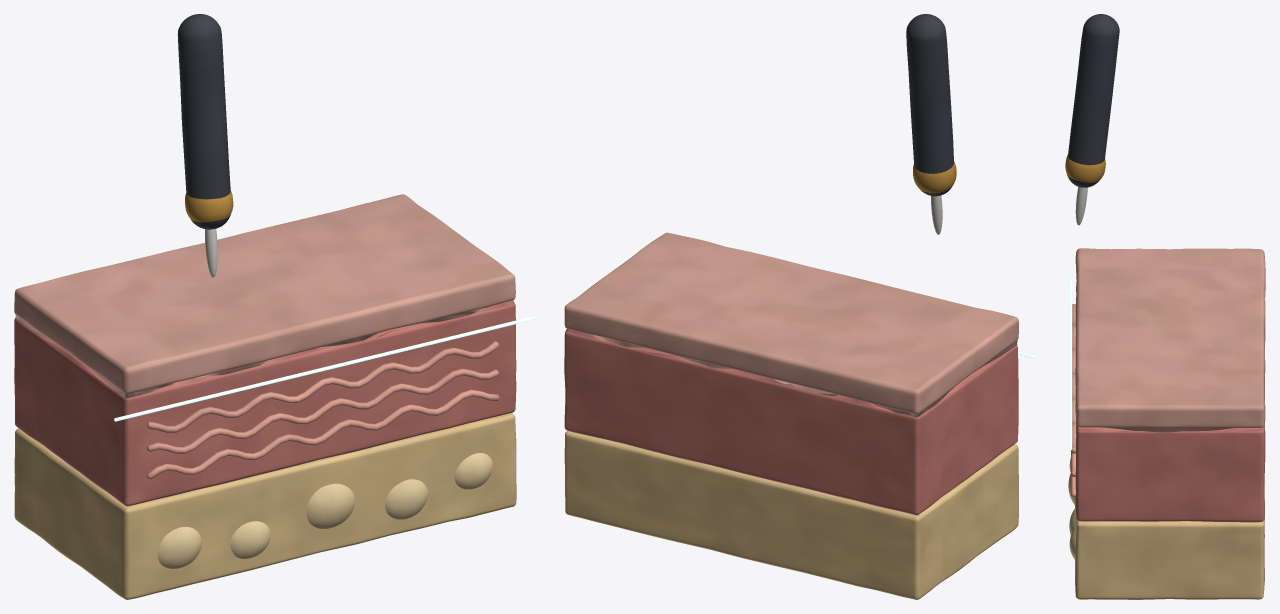
File: capas-de-la-piel.glb
3 renders of one model, left to right at view 1: azimuth 30°, elevation 25°; view 2: azimuth 150°, elevation 25°; view 3: azimuth 270°, elevation 25°, orthographic. The views are drawn at different scales.
Visible parts, largest first — view 1: Epidermis, Dermis, Hipodermis, Dermografo_cuerpo, Colageno_2, Colageno_0, Colageno_1, Franja_objetivo, Lobulo_2, Lobulo_0, Lobulo_3, Lobulo_1 (+2 smaller); view 2: Epidermis, Dermis, Hipodermis, Dermografo_cuerpo, Dermografo_anillo; view 3: Epidermis, Dermis, Hipodermis, Dermografo_cuerpo, Dermografo_anillo, Franja_objetivo, Colageno_2, Dermografo_aguja.
Part boxes in pixels (x1,y1,x2,y2): Epidermis: (14, 194, 515, 398); Dermis: (14, 300, 516, 506); Hipodermis: (14, 413, 516, 599); Dermografo_cuerpo: (177, 14, 230, 229); Colageno_2: (146, 341, 499, 432); Colageno_0: (146, 389, 498, 479); Colageno_1: (147, 368, 498, 454); Franja_objetivo: (114, 316, 535, 421); Lobulo_2: (306, 483, 354, 528); Lobulo_0: (157, 527, 201, 568); Lobulo_3: (385, 479, 428, 519); Lobulo_1: (230, 521, 270, 558); Epidermis: (564, 232, 1018, 417); Dermis: (564, 328, 1018, 515); Hipodermis: (564, 431, 1018, 599); Dermografo_cuerpo: (906, 14, 953, 196); Dermografo_anillo: (913, 161, 956, 193); Epidermis: (1075, 248, 1265, 432); Dermis: (1075, 286, 1265, 522); Hipodermis: (1075, 415, 1265, 599); Dermografo_cuerpo: (1067, 14, 1119, 187); Dermografo_anillo: (1065, 155, 1105, 182); Franja_objetivo: (1069, 277, 1072, 450); Colageno_2: (1071, 304, 1076, 453); Dermografo_aguja: (1075, 187, 1087, 225).
Bounding box in the file's own units: 4.72 × 5.94 × 2.33.
Materials: 19 (18 with a texture image).
